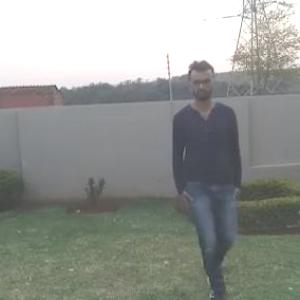follow: (168, 54, 240, 297)
